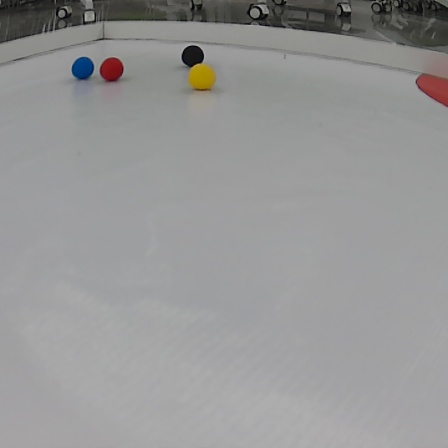black: (178, 42, 206, 68)
blue: (67, 53, 96, 81)
red: (99, 56, 125, 85)
red_base: (408, 71, 448, 109)
yellow: (187, 61, 218, 92)
